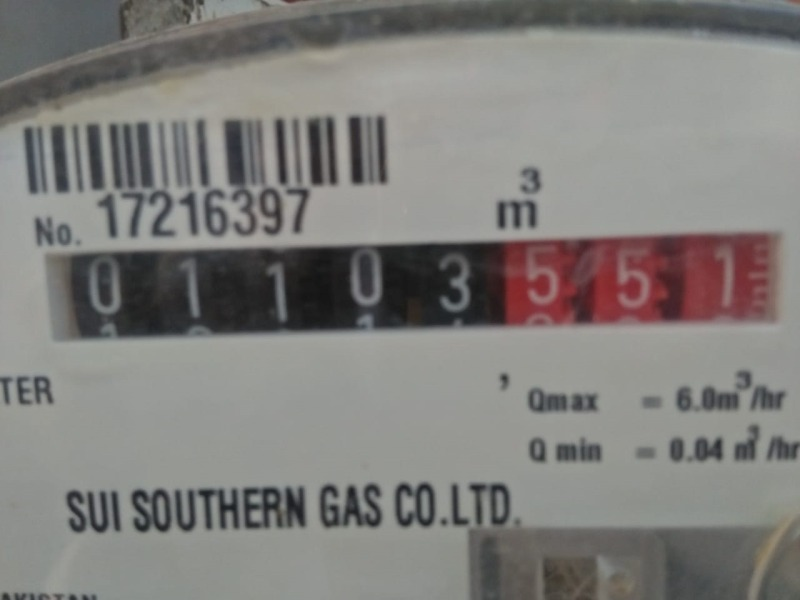ssgc: (44, 234, 773, 327)
